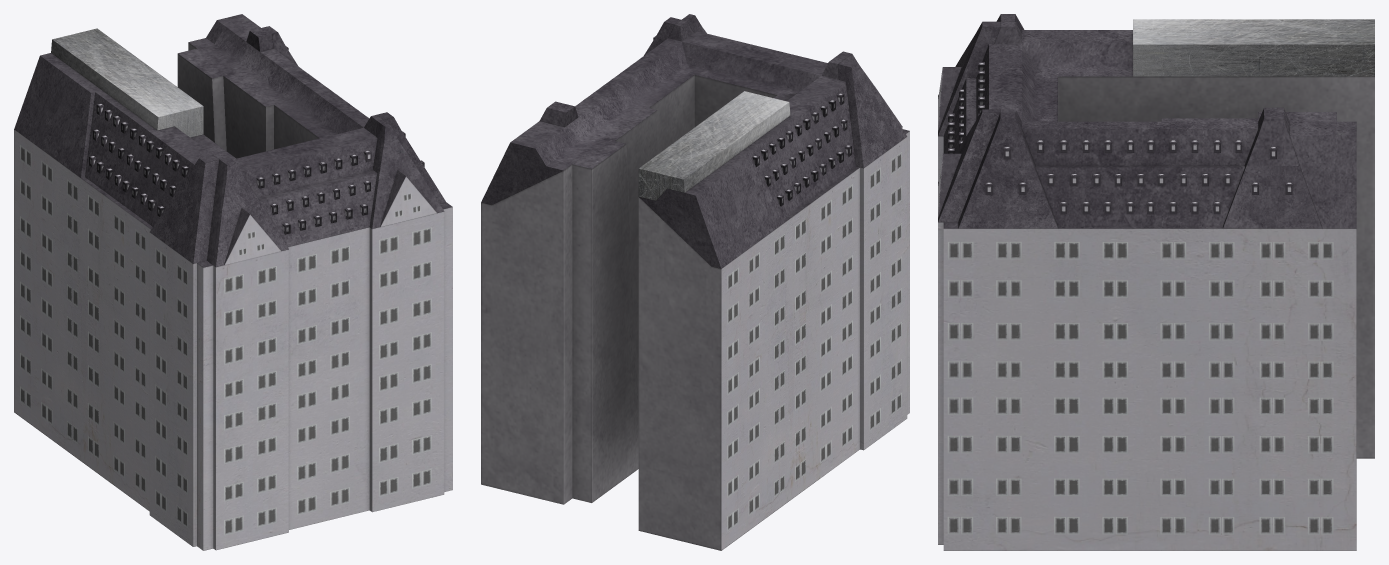
The model's file is Building_4.fbx.
3 renders of one model, left to right at view 1: azimuth 30°, elevation 25°; view 2: azimuth 150°, elevation 25°; view 3: azimuth 270°, elevation 25°, orthographic. The views are drawn at different scales.
Parts seen in each view (by area): view 1: Building_4; view 2: Building_4; view 3: Building_4.
Part boxes in pixels (x1,y1,x2,y2): Building_4: (14,14,452,550); Building_4: (481,14,909,550); Building_4: (938,14,1374,550).
Size of the model in its own units: 6.76 by 9.28 by 8.88.
